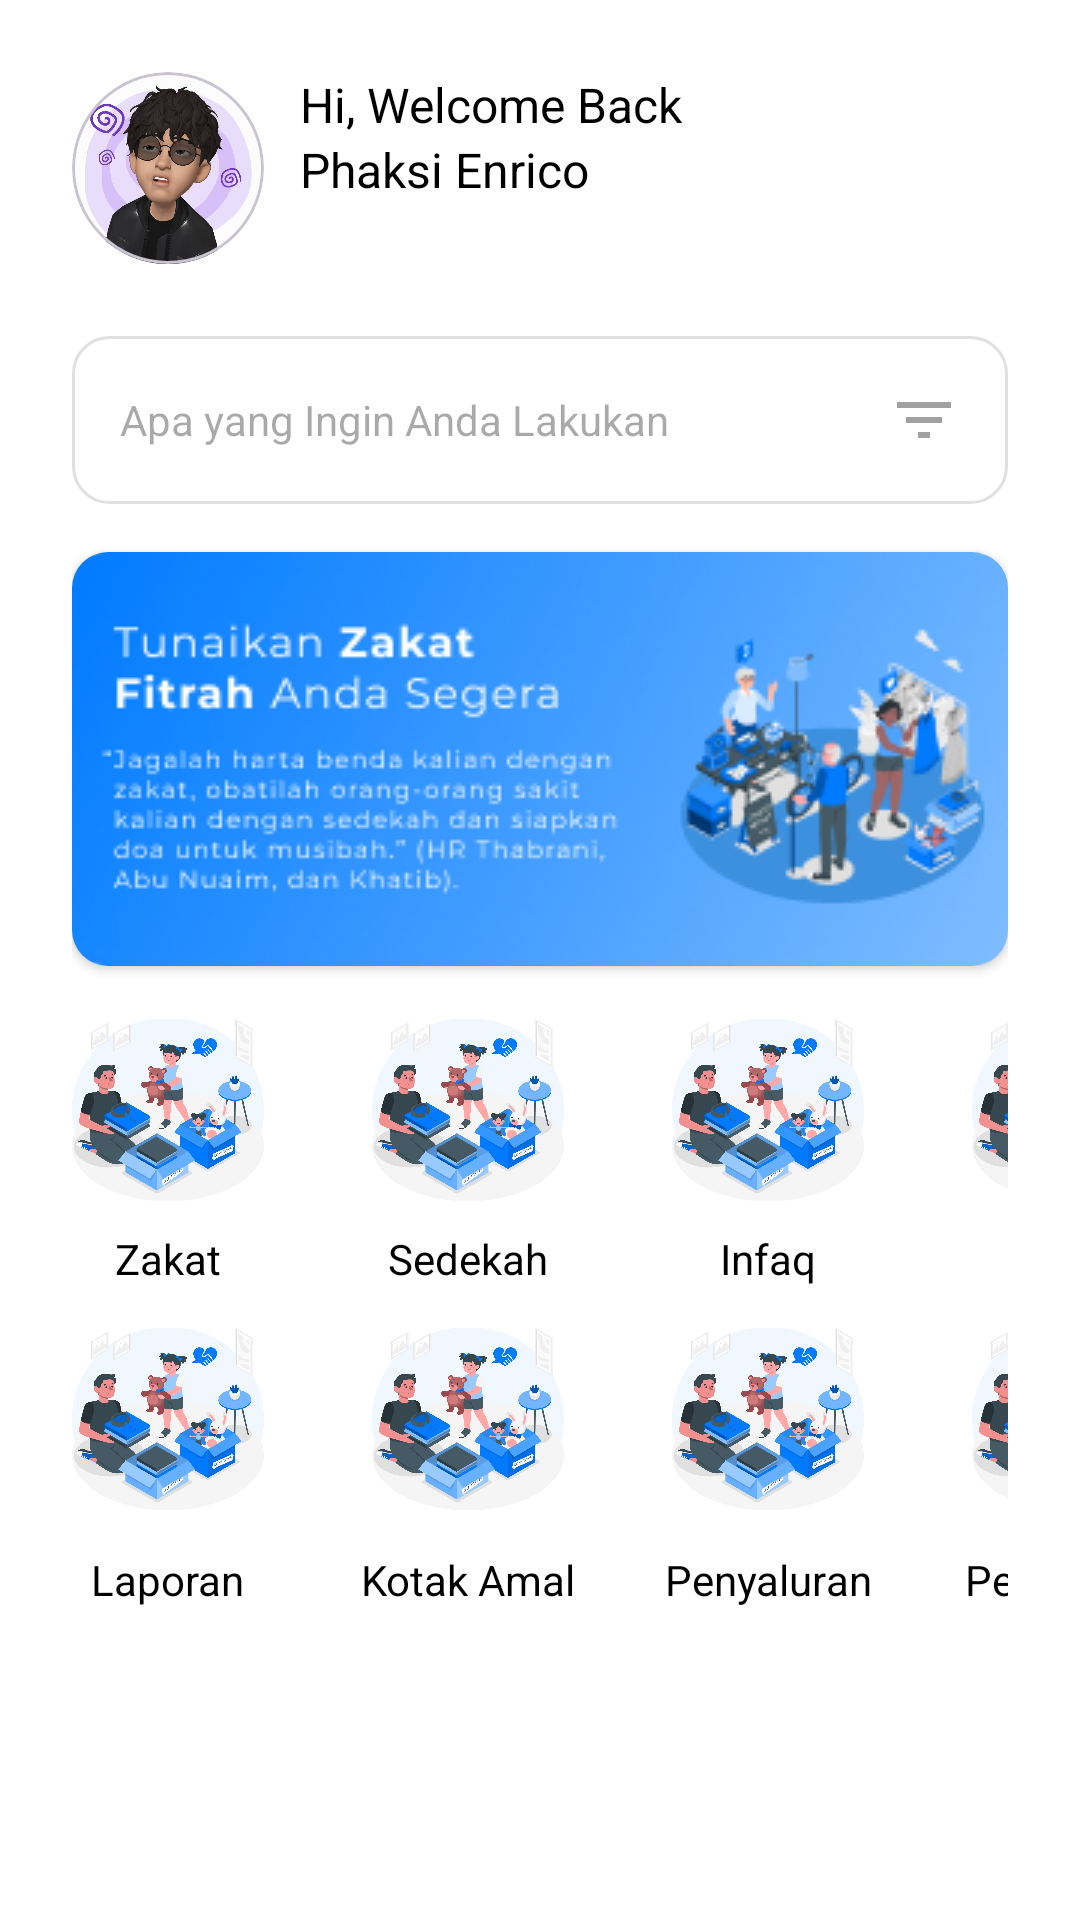

Point at icon controls on the screen. Image size 1080×1920, points as (x=x, y=y).
profile: (x=168, y=168)
